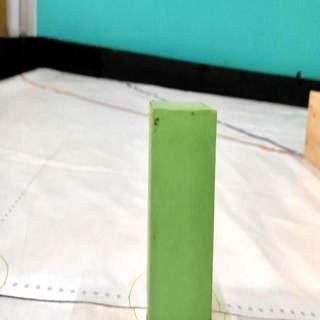greenbox: (145, 99, 219, 320)
